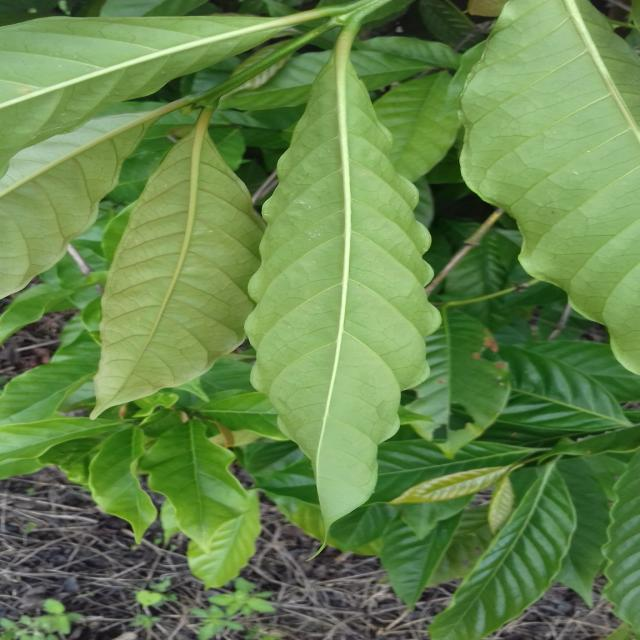Sanas: (244, 44, 446, 525)
